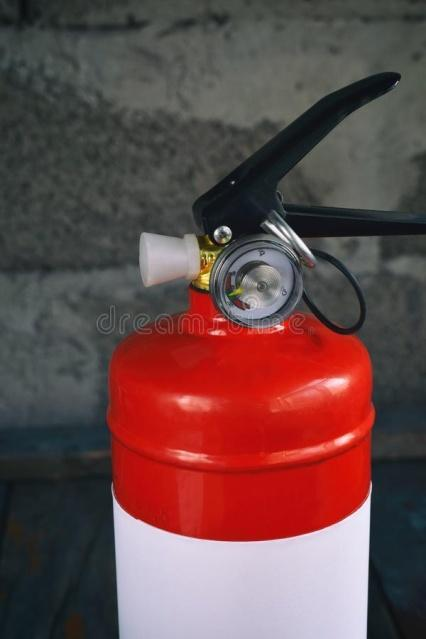APAR: (105, 72, 425, 638)
